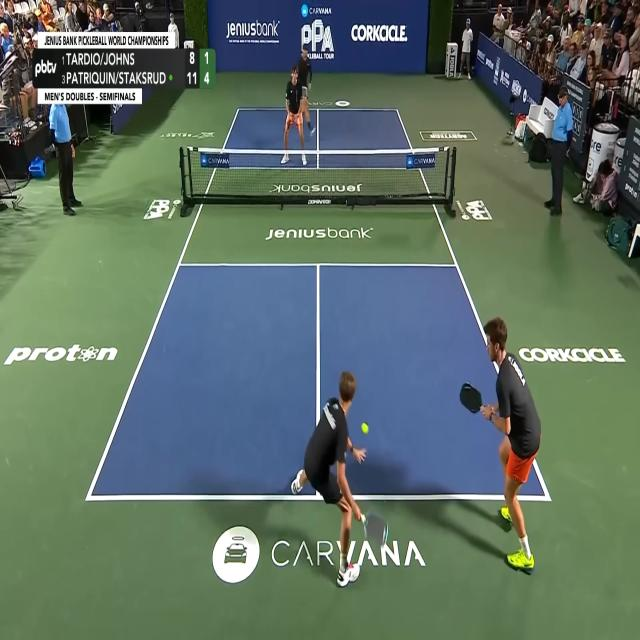ball: (361, 422, 369, 435)
